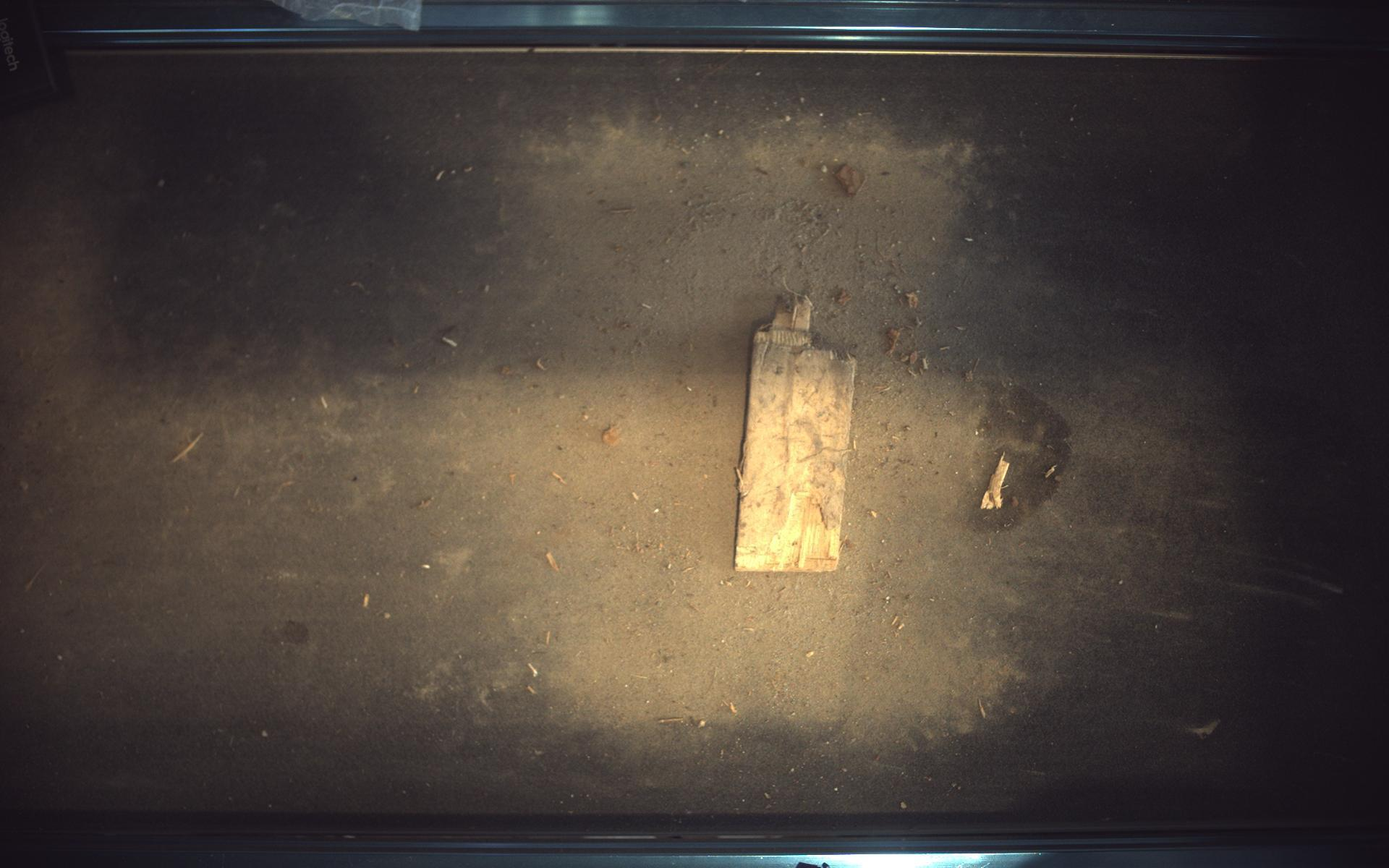wood: (736, 297, 857, 572)
